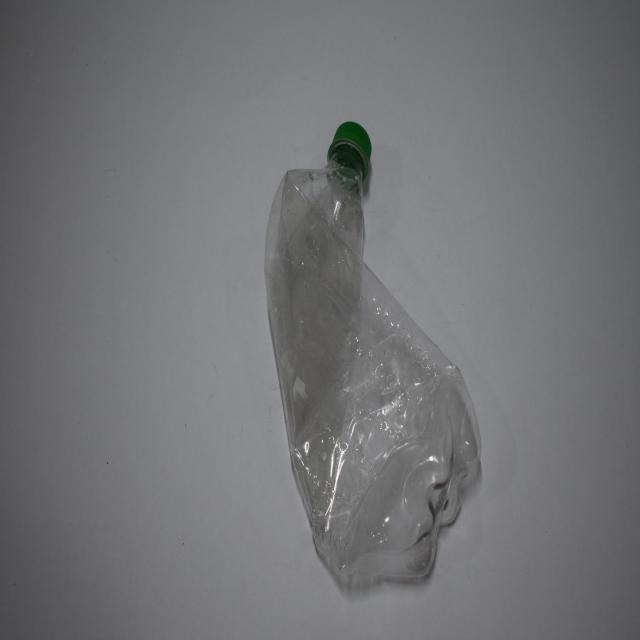bottle: (249, 102, 497, 598)
